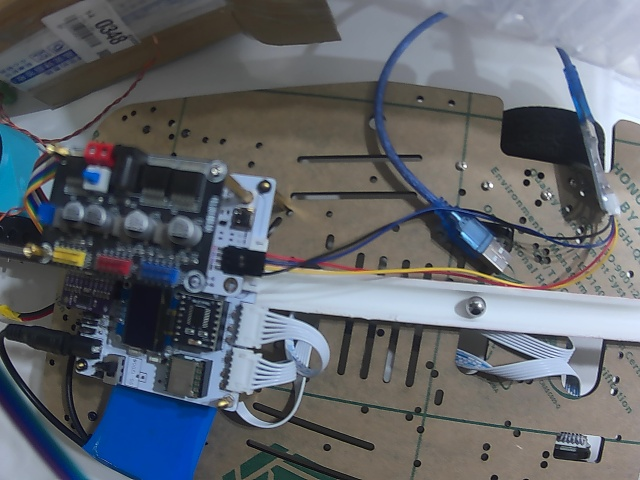steelball: (466, 295, 485, 316)
